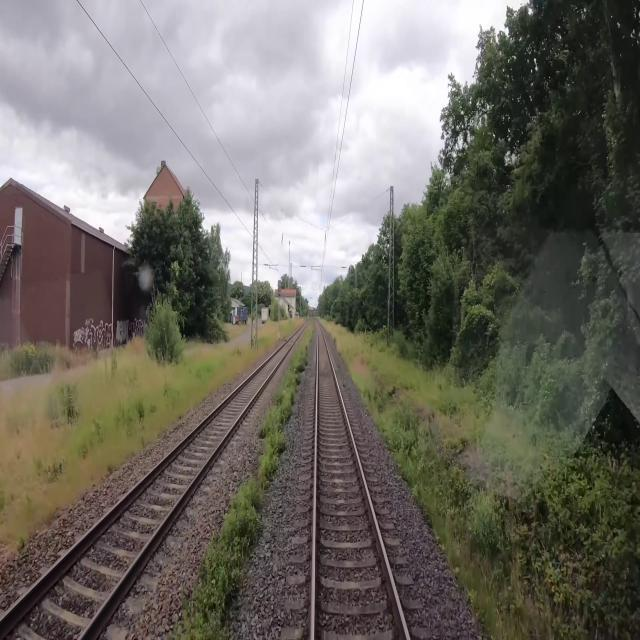Plant: (165, 324, 314, 639)
